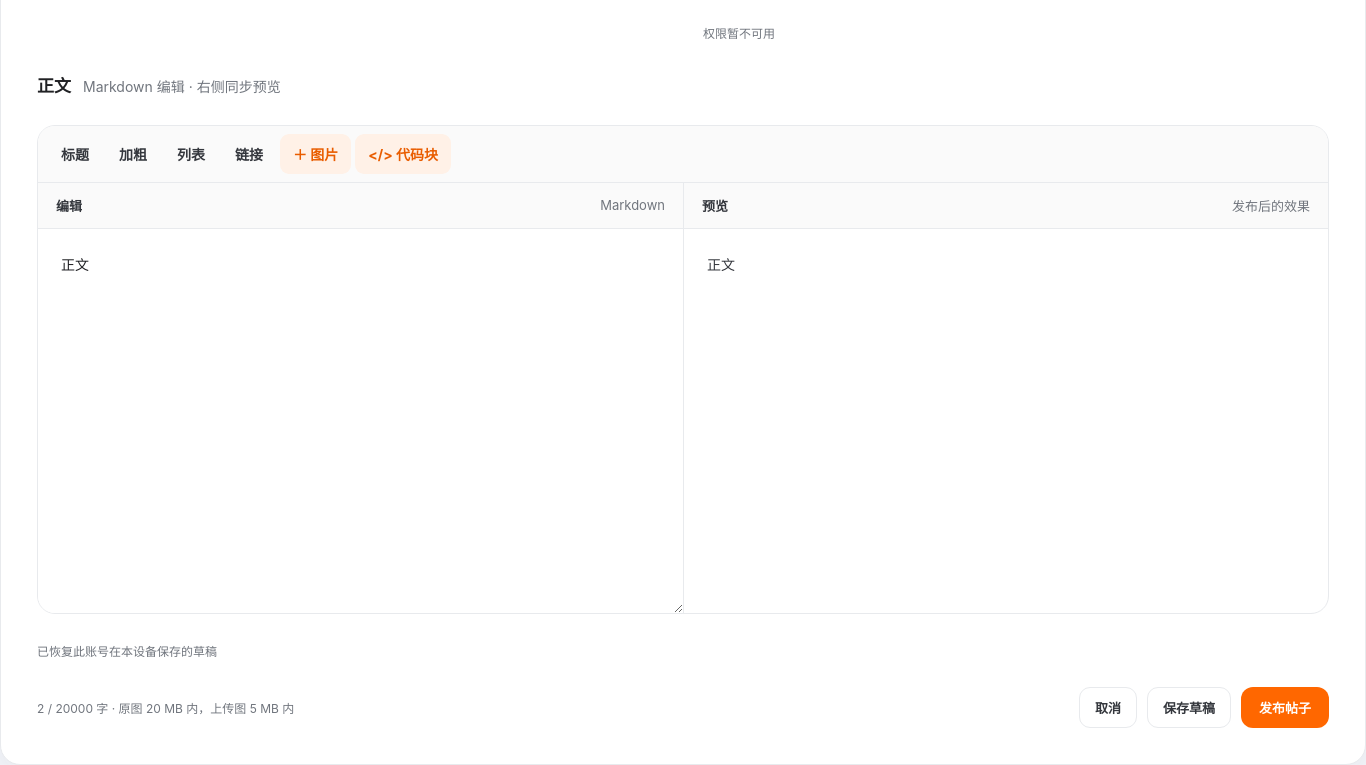
Test case: member community pages › preserves a restricted draft and refuses publication when its permission is missing
This screenshot has width=1366, height=765.
(page scrolled)
Click the button with class "member-primary-button".
click(1285, 708)  # box [1241,687,1329,728]
(page scrolled)
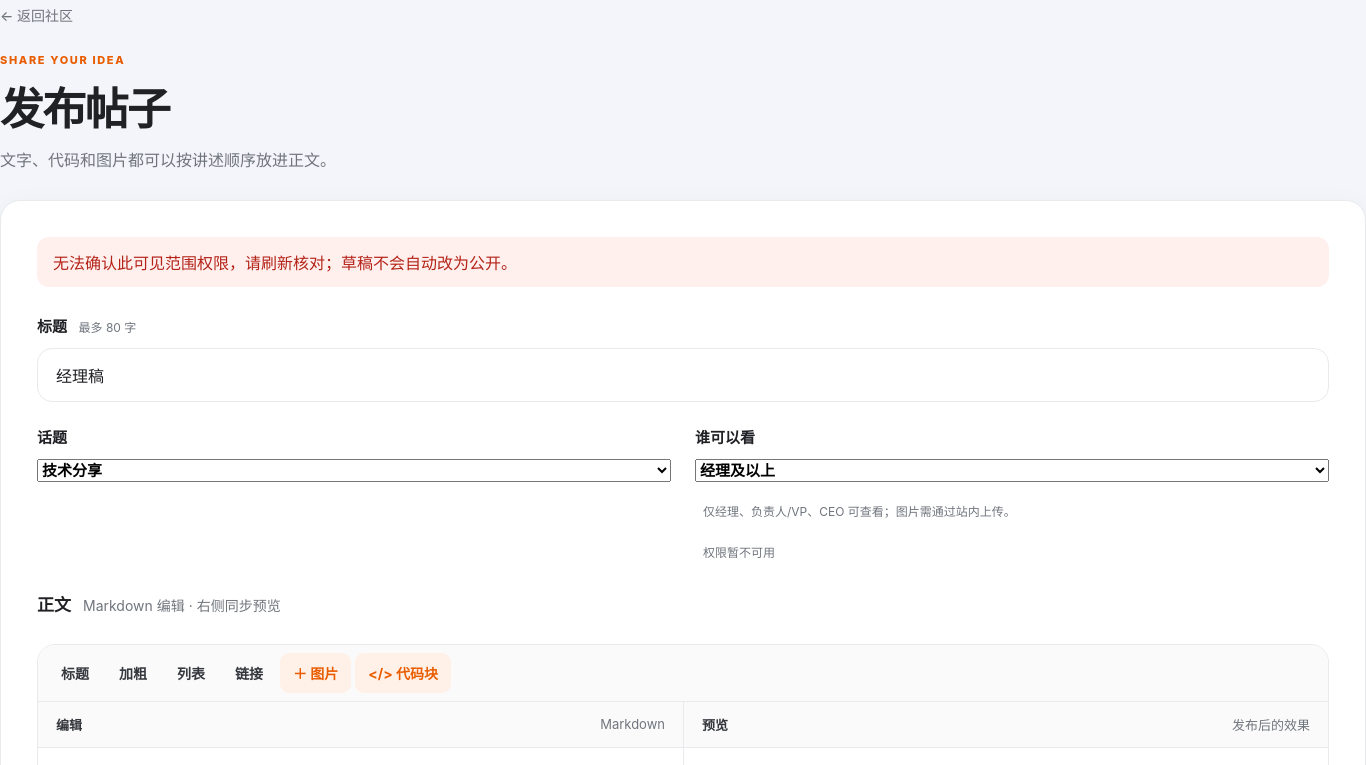
Expected: the message "无法确认此可见范围权限，请刷新核对；草稿不会自动改为公开。" is shown, [37,237,1329,287]
